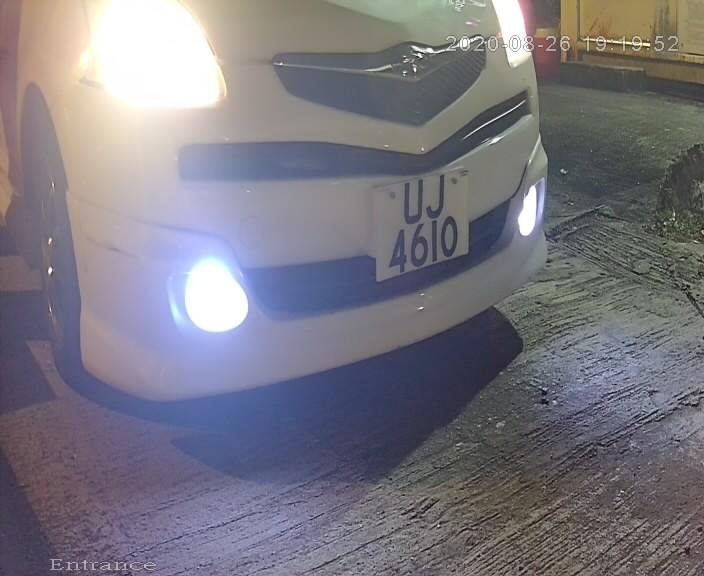License Plate: (371, 150, 478, 294)
